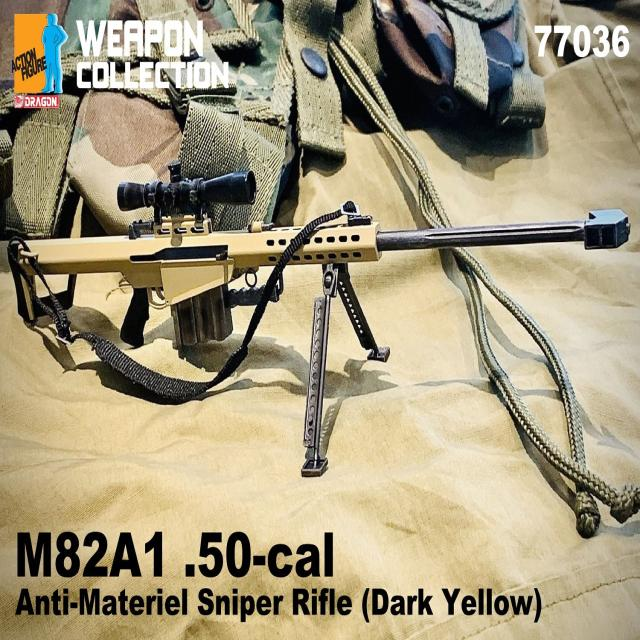Rifle: (5, 172, 631, 348)
